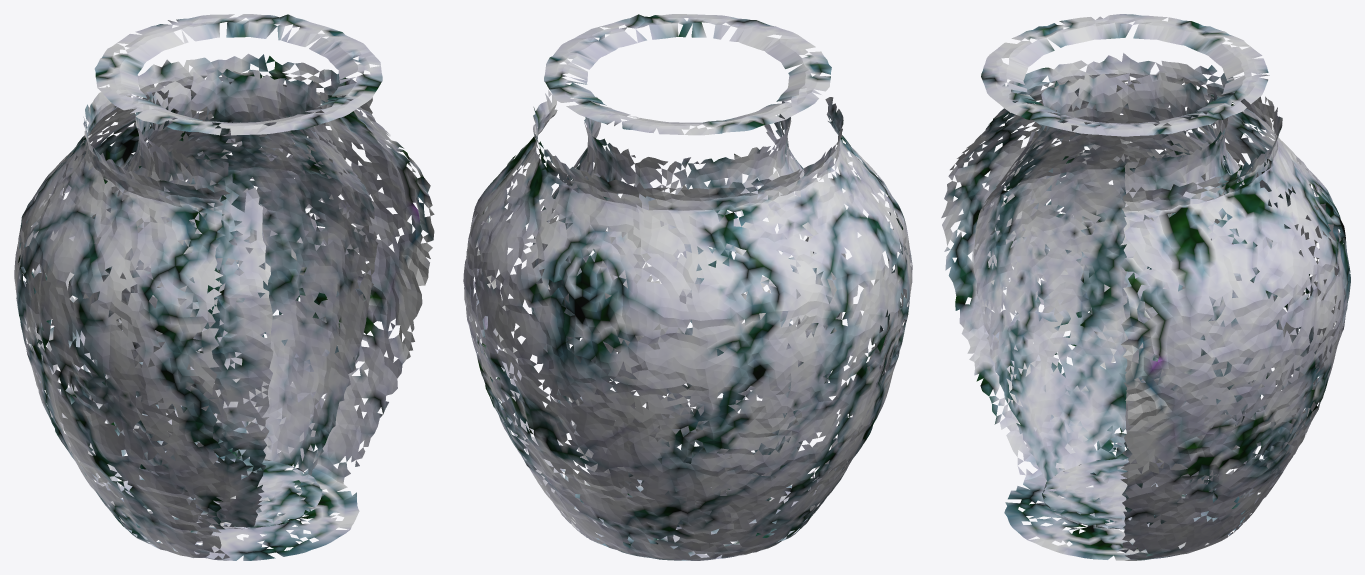
Rendered from vase2_final900.obj.
The picture shows the model from 3 angles, left to right: view 1: azimuth 30°, elevation 25°; view 2: azimuth 150°, elevation 25°; view 3: azimuth 270°, elevation 25°; orthographic projection.
Bounding box in the file's own units: 1.63 × 1.75 × 1.48.
